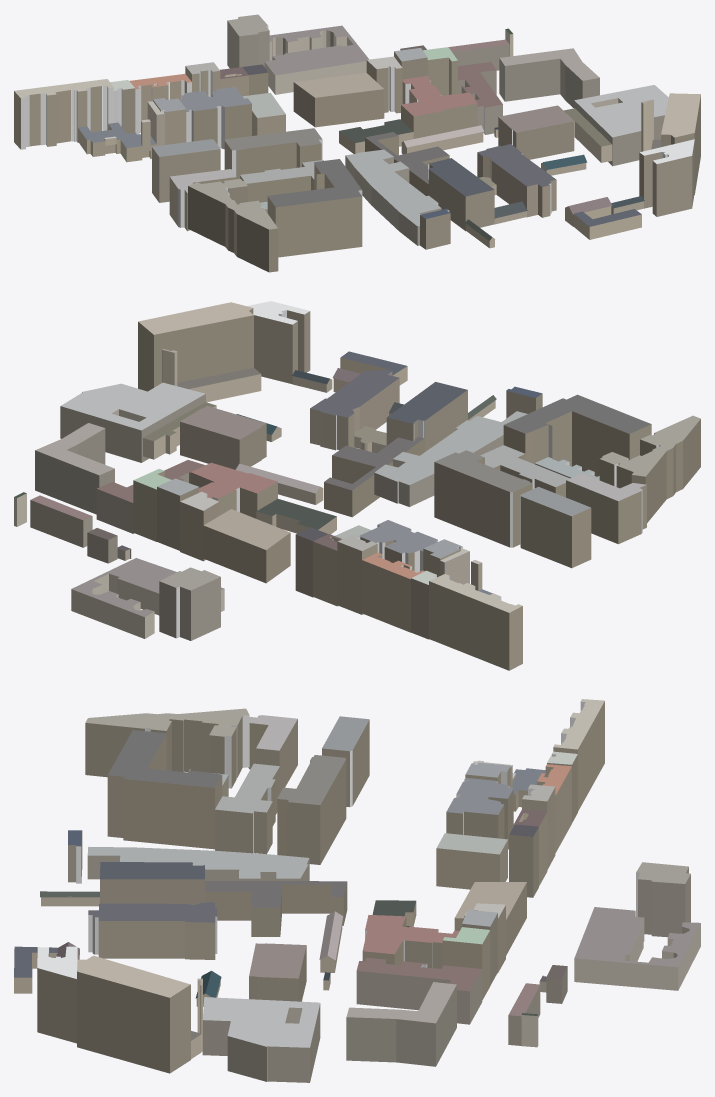
3 renders of one model, top to bottom at view 1: azimuth 30°, elevation 25°; view 2: azimuth 150°, elevation 25°; view 3: azimuth 270°, elevation 25°, orthographic. The views are drawn at different scales.
Visible parts, largest first — view 1: tuile; view 2: tuile; view 3: tuile.
Part boxes in pixels (<box>): tuile: <box>14,14,700,272</box>; tuile: <box>14,301,700,670</box>; tuile: <box>14,699,700,1082</box>.
Size of the model in its own units: 284 by 37.67 by 266.
